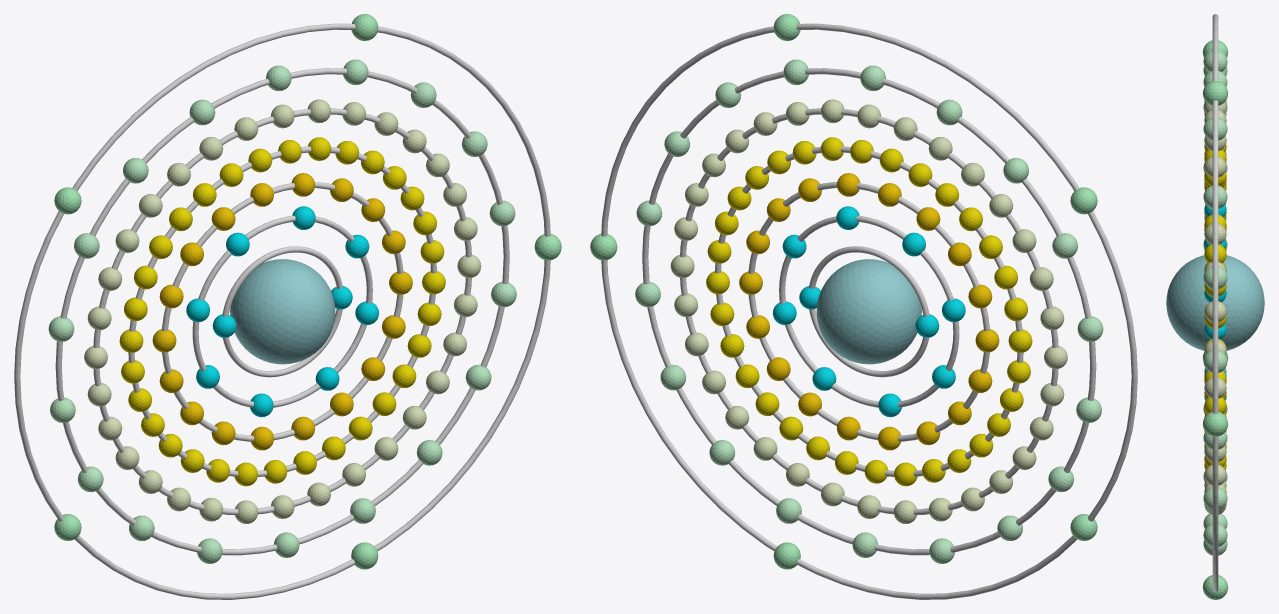
3 renders of one model, left to right at view 1: azimuth 30°, elevation 25°; view 2: azimuth 150°, elevation 25°; view 3: azimuth 270°, elevation 25°, orthographic. The views are drawn at different scales.
Parts seen in each view (by area): view 1: world; view 2: world; view 3: world.
Part boxes in pixels (box(x1,y1,x2,y2)): world: box(14, 14, 561, 599); world: box(590, 14, 1137, 599); world: box(1166, 14, 1264, 599).
Bounding box in the file's own units: 2.63 × 2.59 × 0.44.
